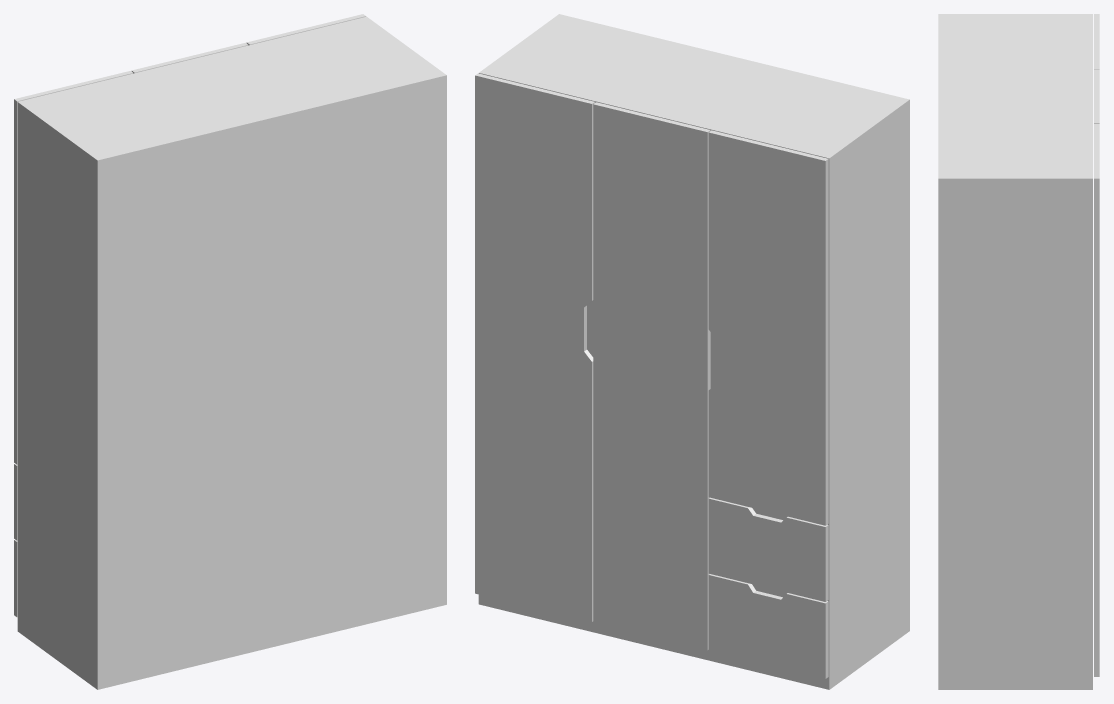
Rendered from Closet.fbx.
3 renders of one model, left to right at view 1: azimuth 30°, elevation 25°; view 2: azimuth 150°, elevation 25°; view 3: azimuth 270°, elevation 25°, orthographic. The views are drawn at different scales.
Visible parts, largest first — view 1: Modern Wardrobe White; view 2: Modern Wardrobe White; view 3: Modern Wardrobe White.
Boxes of the visible parts, x1,y1,x2,y2 form: Modern Wardrobe White: [14, 14, 446, 689]; Modern Wardrobe White: [475, 14, 909, 689]; Modern Wardrobe White: [938, 14, 1099, 689].
Size of the model in its own units: 136 by 197 by 56.44.
Materials: 1 (1 with a texture image).
